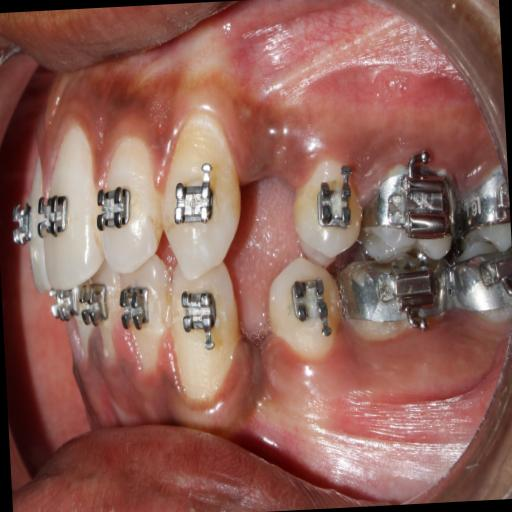correct_brace: (290, 160, 365, 266), (95, 178, 134, 236), (34, 186, 73, 242), (172, 178, 218, 224)
incorrect_brace: (94, 138, 166, 272), (312, 174, 358, 238)
